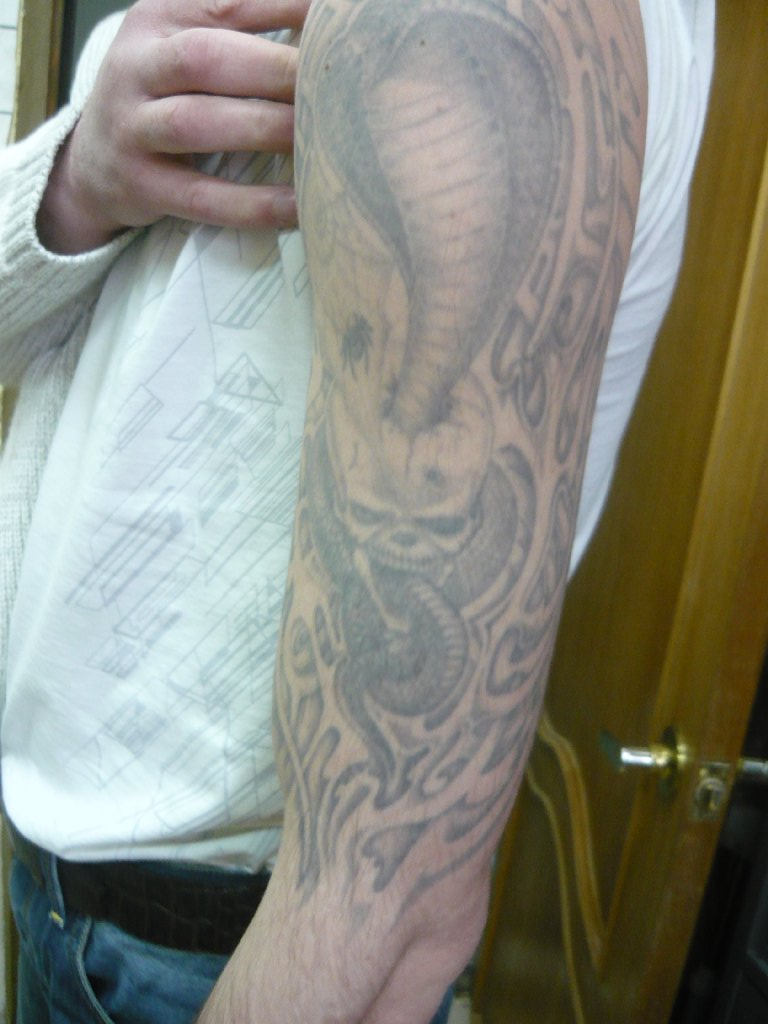tatu7_zmeya: (309, 1, 563, 852)
